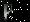person: (6, 5, 16, 22)
